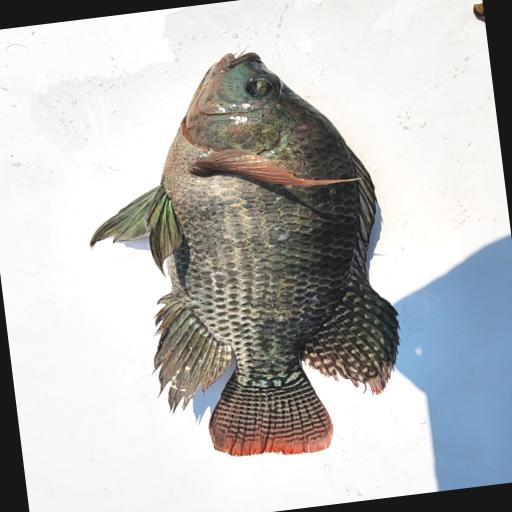Tilapia: (69, 36, 415, 477)
